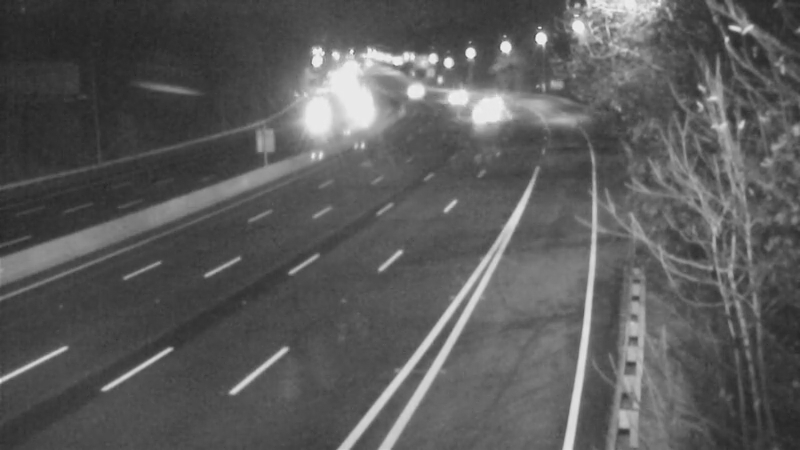vehicle: (390, 67, 440, 117), (426, 71, 476, 121), (460, 73, 510, 123), (469, 82, 519, 132), (284, 96, 334, 146), (333, 88, 383, 138)
